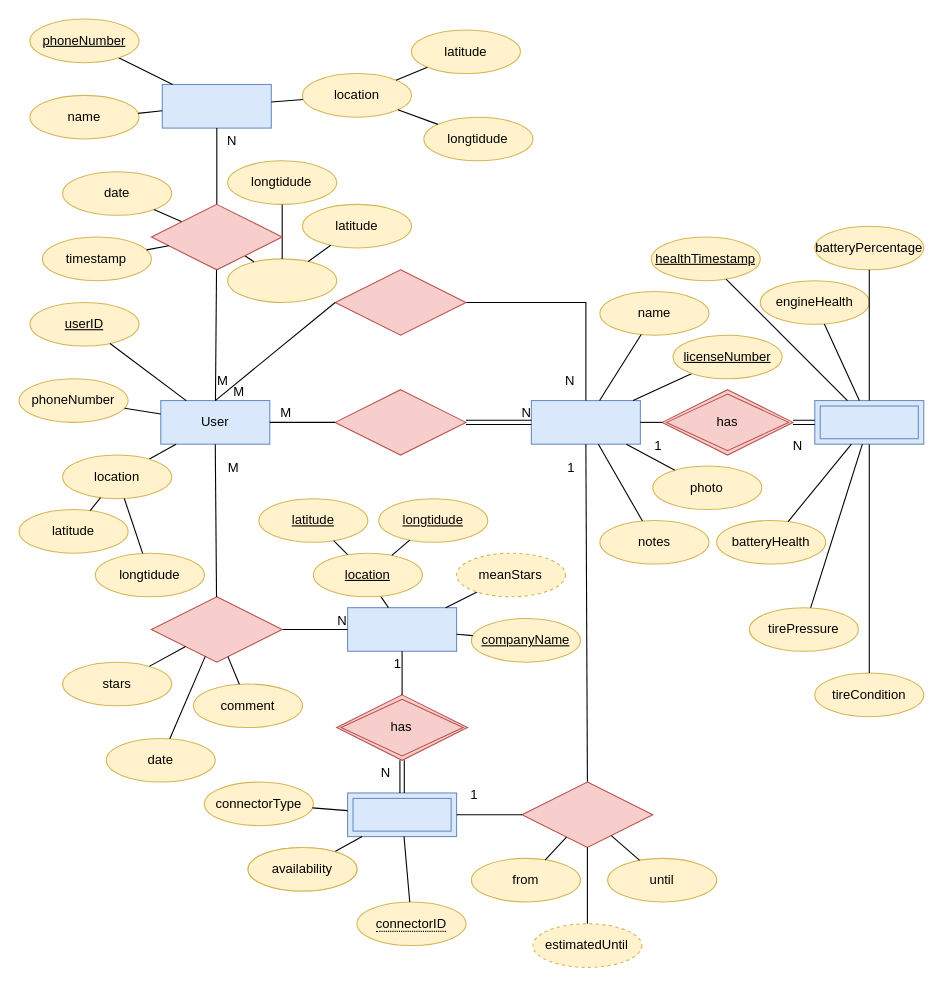
Some shapes in this 943 by 986 pixel diagram are drawn without their labels. The shapes that lost their labels are listed below. From the top down, each one's box as (x1, y1, x2, y2) in pixels, then its label:
(161, 83, 271, 128): RSA
(150, 203, 282, 270): calls
(227, 258, 337, 302): caller_location
(334, 269, 466, 335): owns
(334, 389, 466, 455): drives
(530, 399, 640, 444): Car
(814, 399, 924, 444): Health
(150, 596, 282, 662): reviews
(347, 607, 457, 651): Charging Station
(347, 792, 457, 837): Connector
(521, 781, 653, 847): occupy
